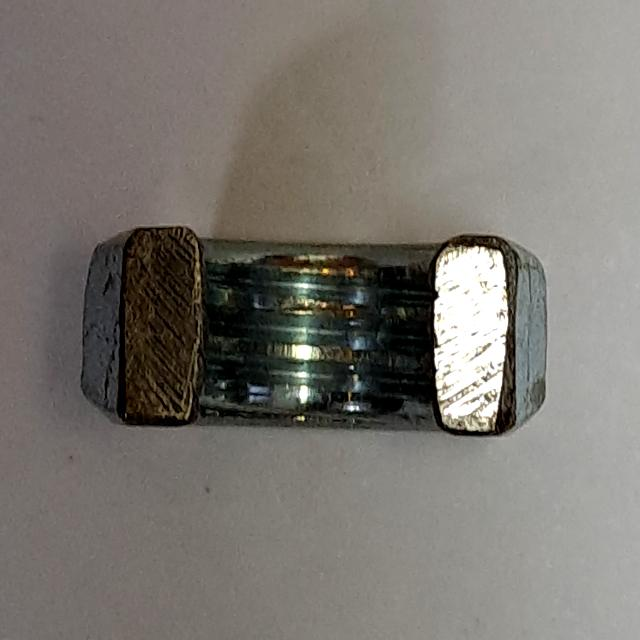Side-Fracture: (60, 199, 571, 457)
